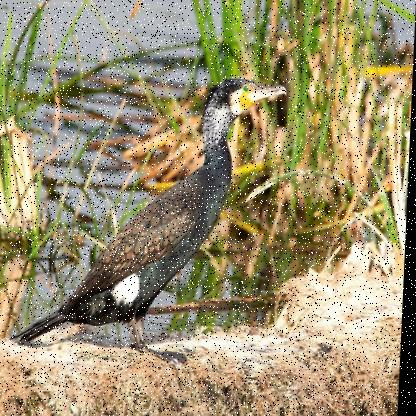Burung: (12, 78, 289, 356)
